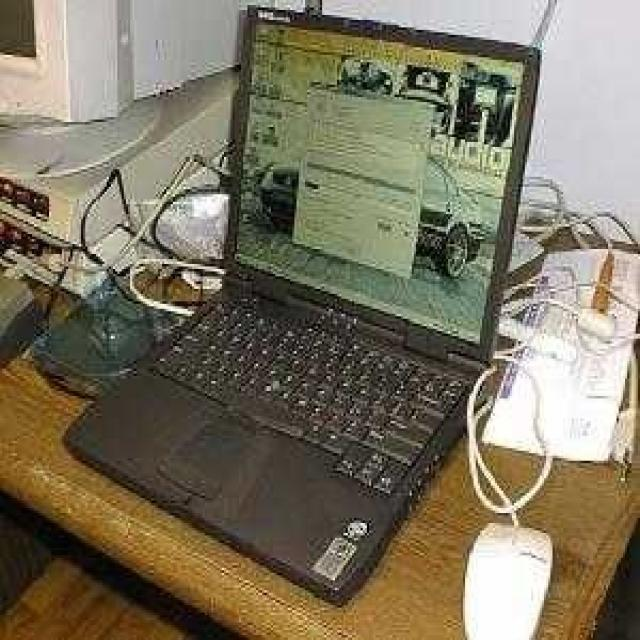laptop: (120, 20, 532, 533)
